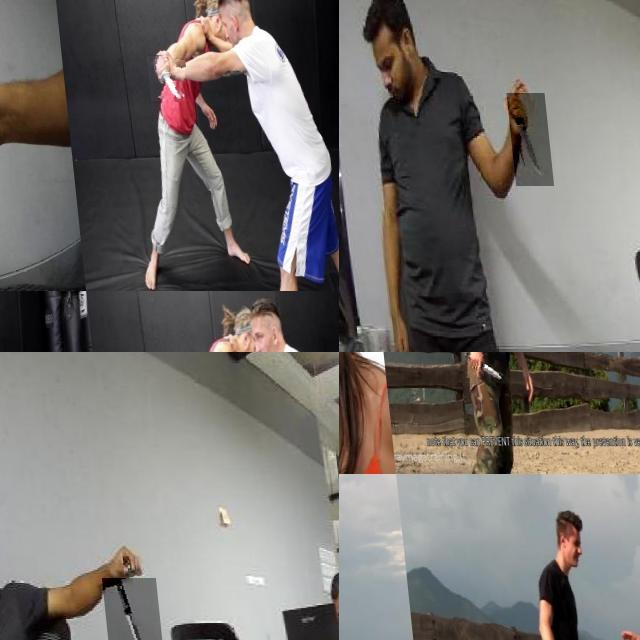-: (0, 0, 62, 165), (502, 93, 548, 186), (94, 577, 156, 640), (339, 352, 396, 394), (146, 56, 186, 101), (457, 352, 503, 382)
